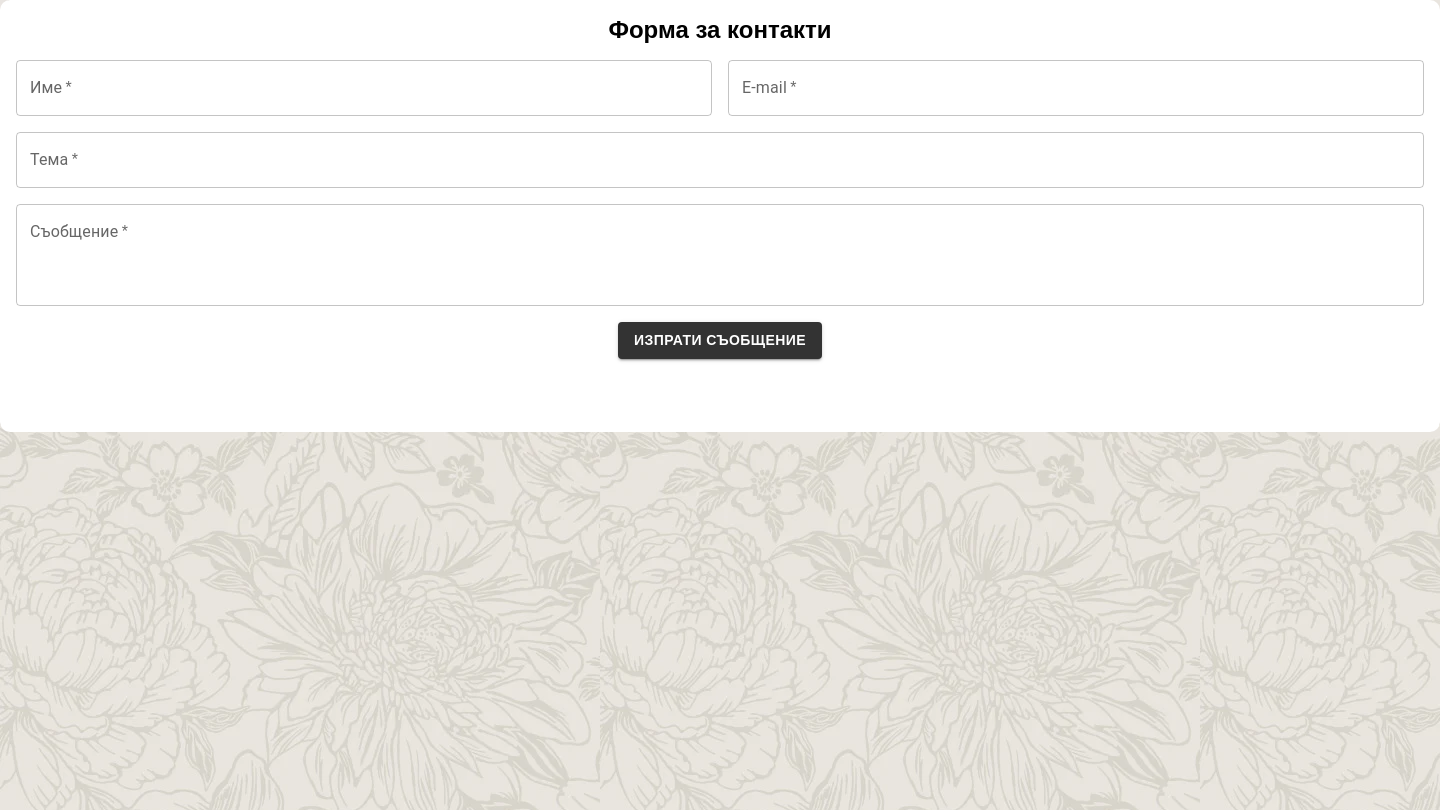
Test: Компонент ContactForm › Изчистване на формуляра и показване на съобщение за успех при успешно изпращане.
The width and height of the screenshot is (1440, 810).
Type "John Doe" into the field labelled "Име *". click: (364, 88)
box: x1=16 y1=60 x2=712 y2=116
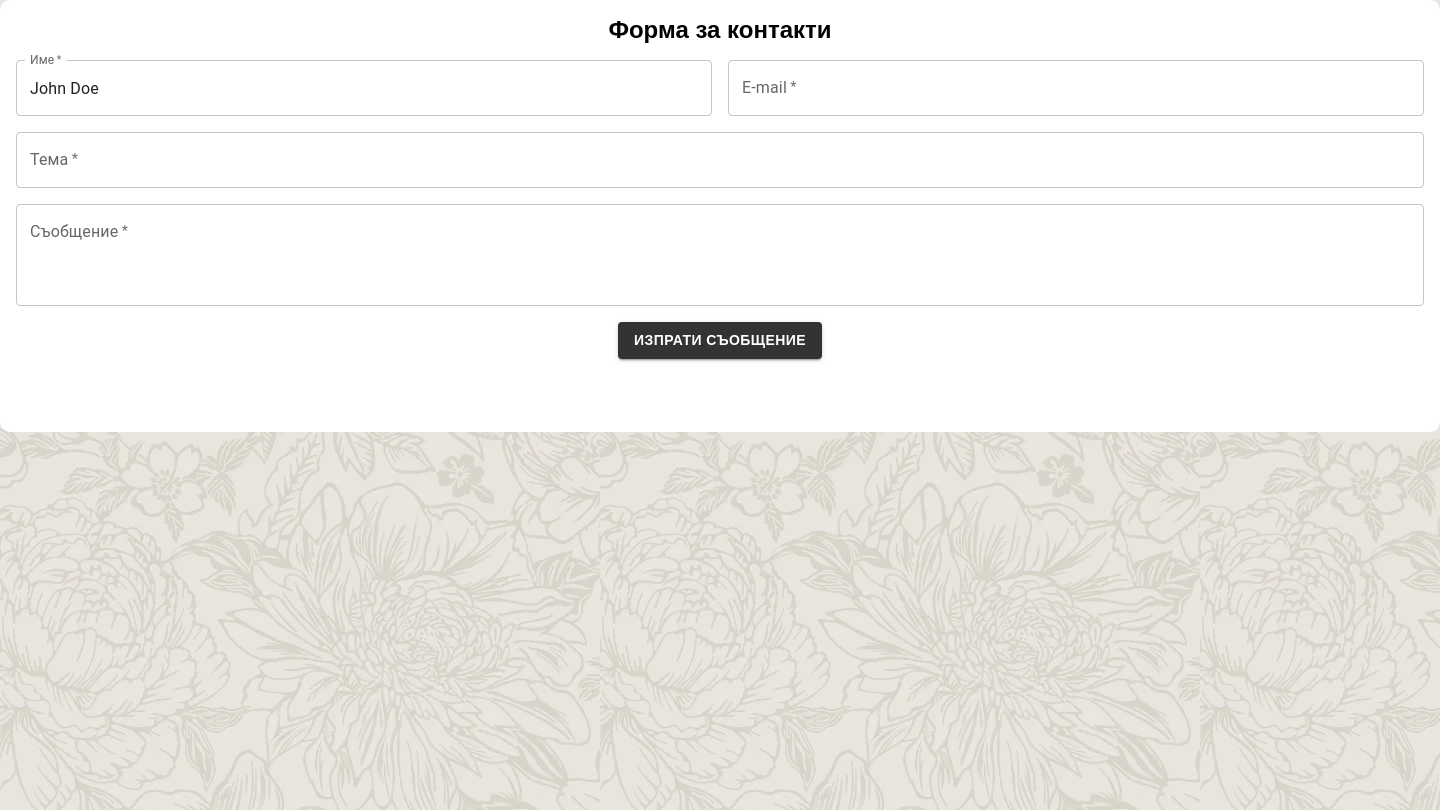
Type "john@example.com" into the field labelled "E-mail *". click: (1076, 88)
box: x1=728 y1=60 x2=1424 y2=116
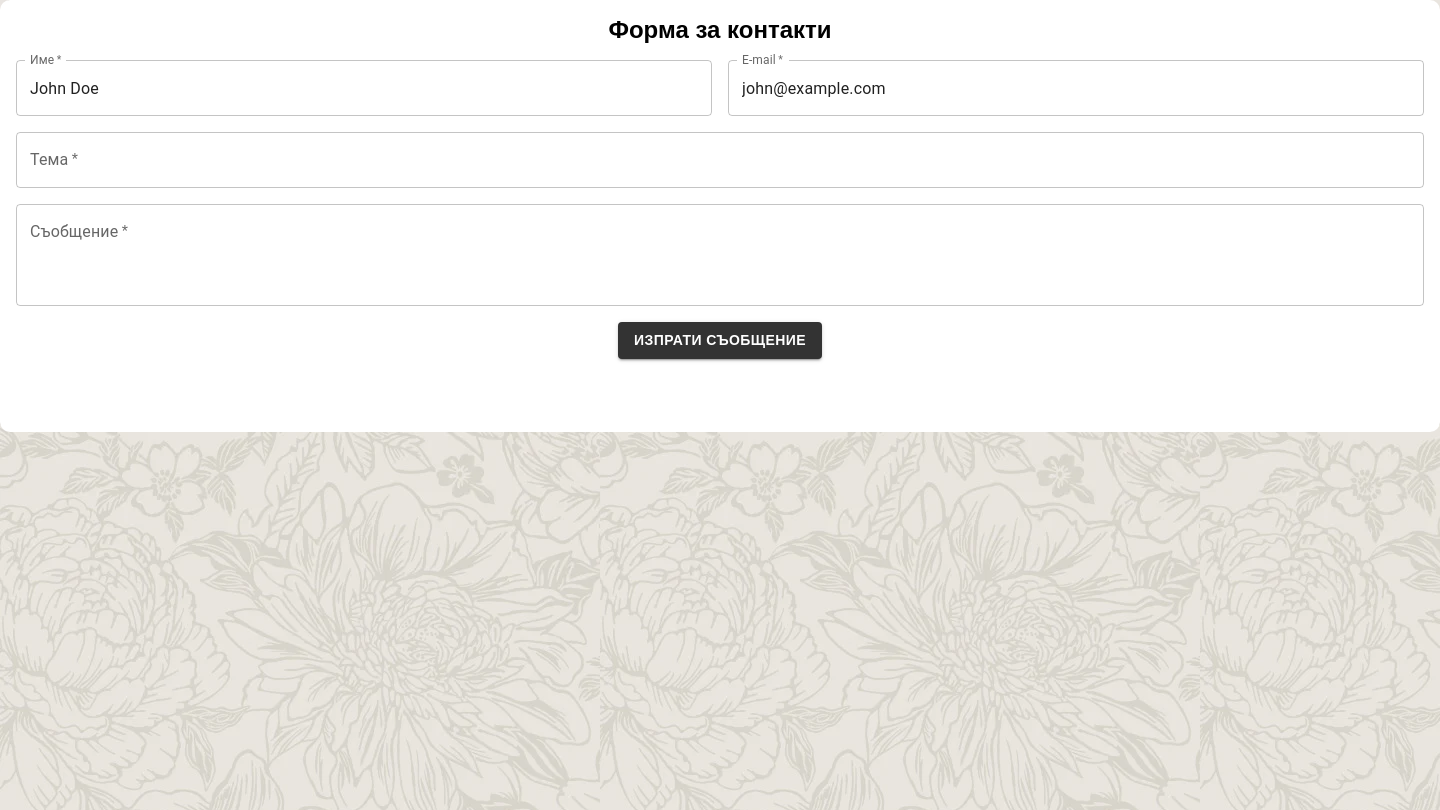
Type "Test Topic" into the field labelled "Тема *". click: (720, 160)
box: x1=16 y1=132 x2=1424 y2=188
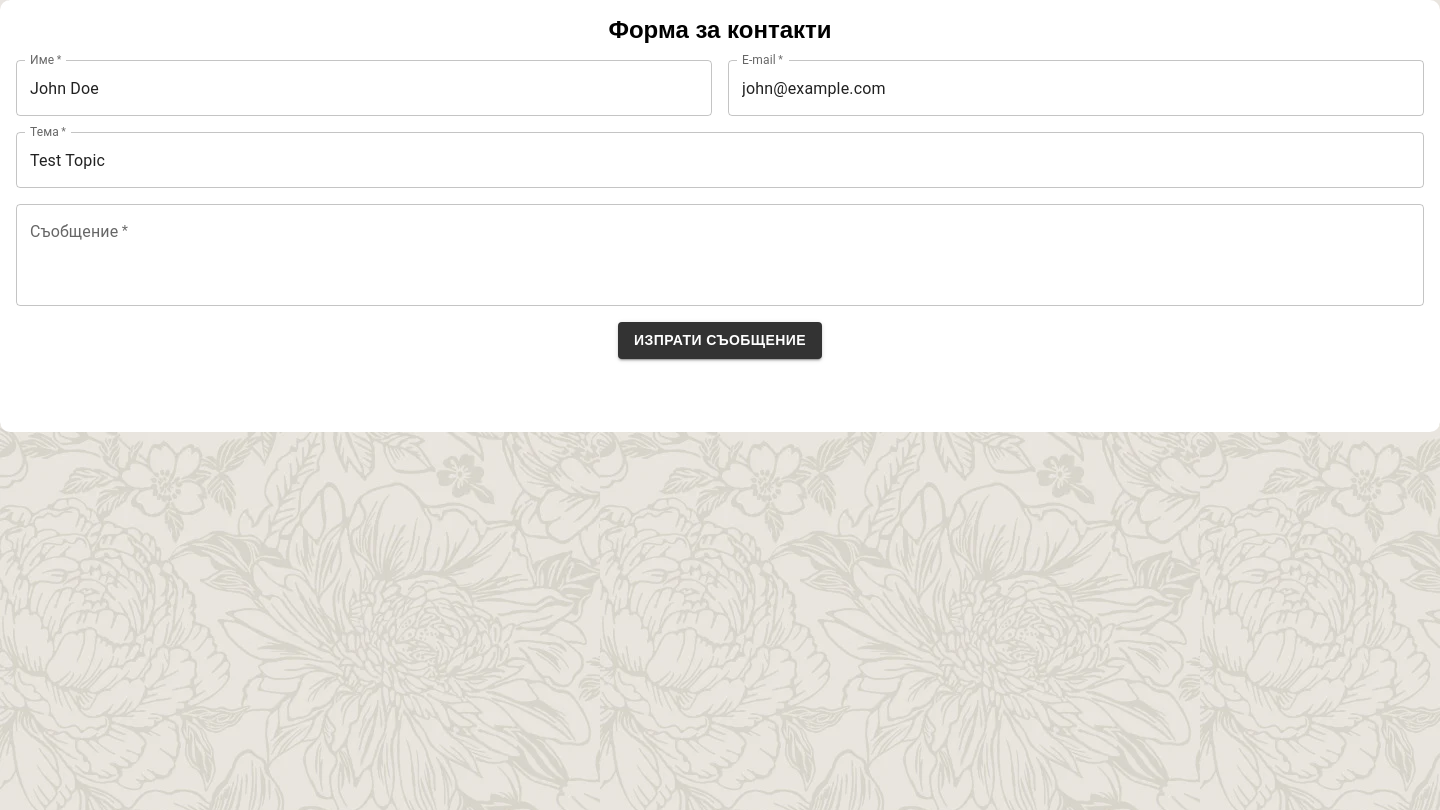
Type "This is a test message." into the text box labelled "Съобщение *". click: (720, 255)
box: x1=30 y1=220 x2=1410 y2=290
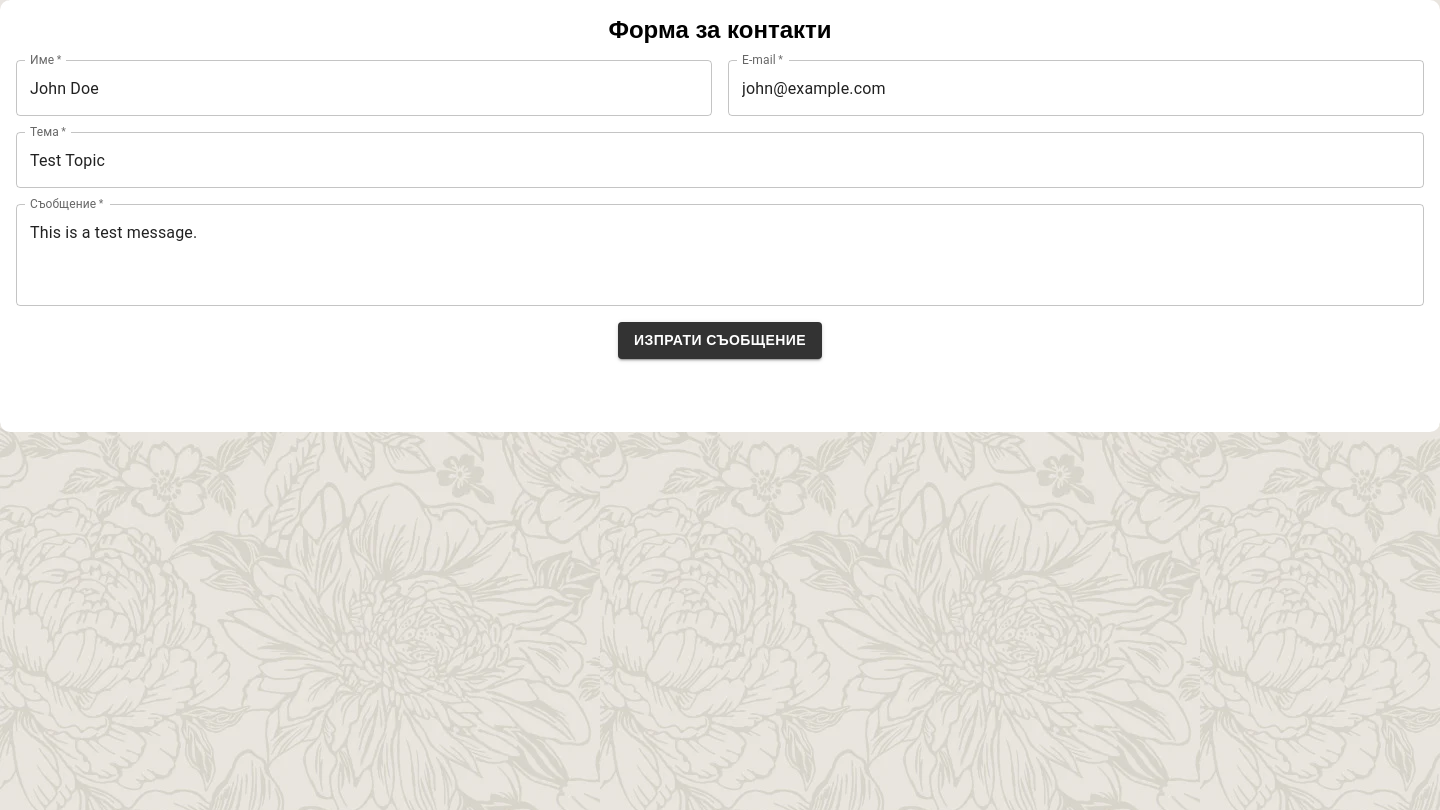
Click the button "Изпрати съобщение". click: click(720, 340)
box: x1=618 y1=322 x2=822 y2=358
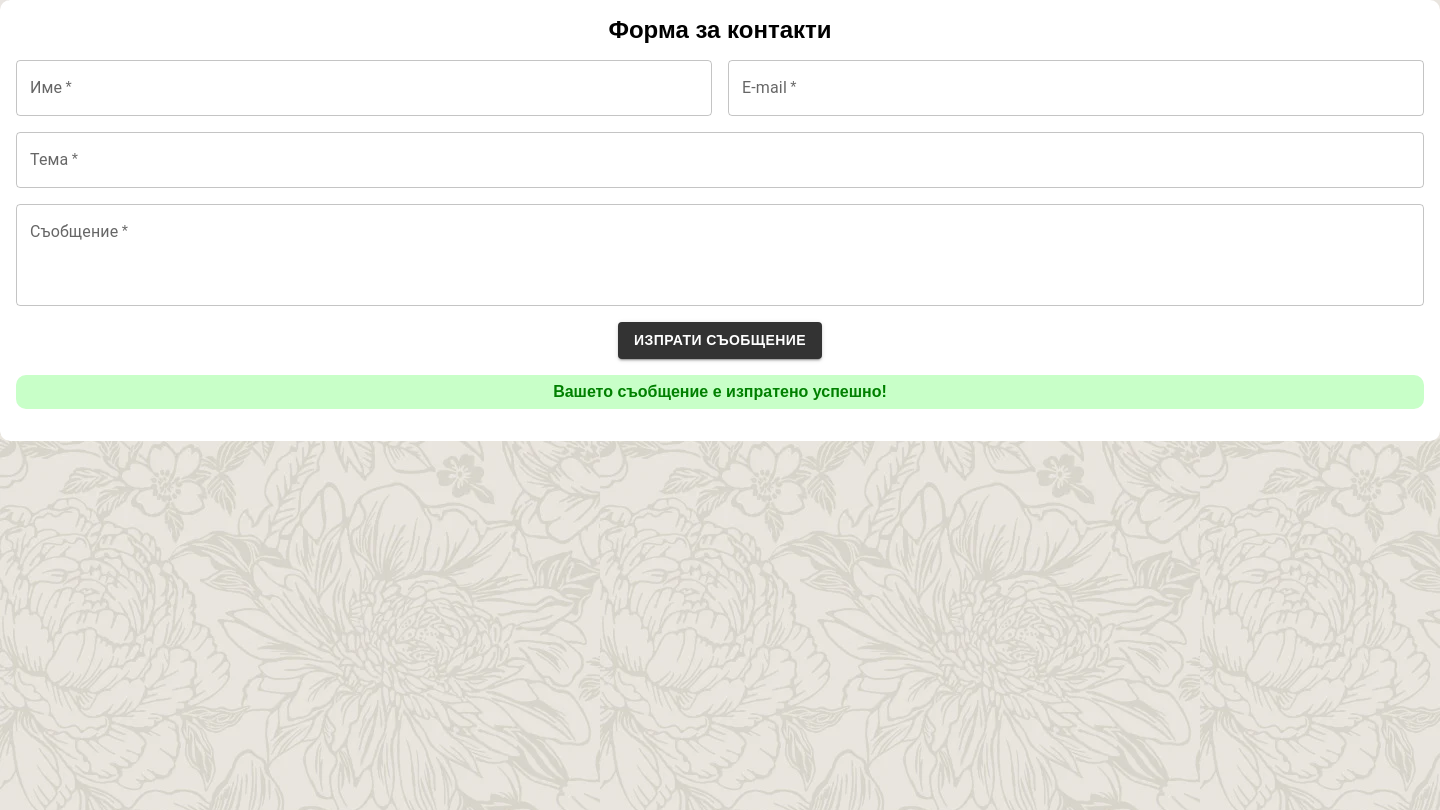
Expected: the text "Вашето съобщение е изпратено успешно!" is shown, x1=16 y1=374 x2=1424 y2=408
Expected: the field labelled "Име *" is empty, x1=16 y1=60 x2=712 y2=116
Expected: the field labelled "E-mail *" is empty, x1=728 y1=60 x2=1424 y2=116
